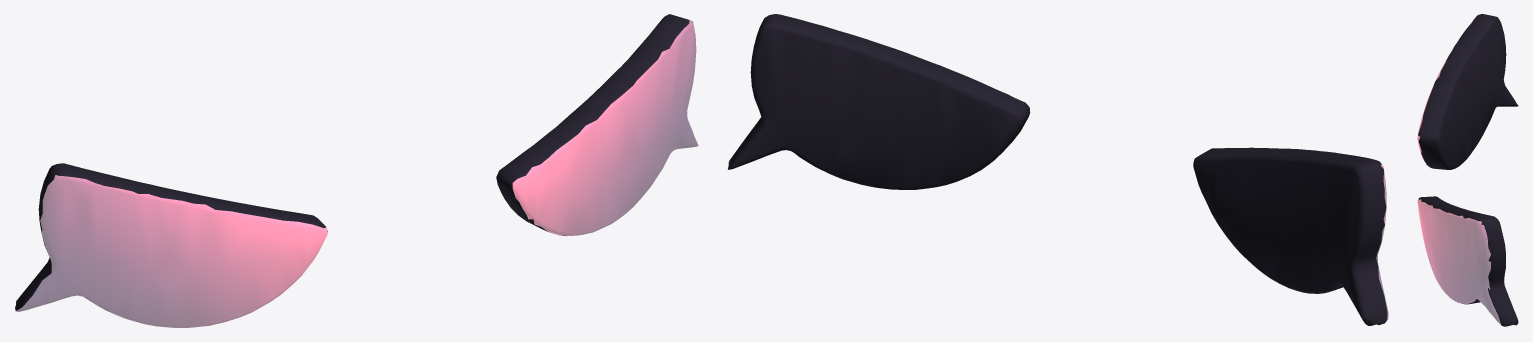
Rendered from eyes-fierce-red.glb.
The picture shows the model from 3 angles, left to right: view 1: azimuth 30°, elevation 25°; view 2: azimuth 150°, elevation 25°; view 3: azimuth 270°, elevation 25°; orthographic projection. The views are drawn at different scales.
Visible parts, largest first — view 1: eyes-fierce-red; view 2: eyes-fierce-red; view 3: eyes-fierce-red.
Part boxes in pixels (box(x1,y1,x2,y2)): eyes-fierce-red: box(15, 14, 698, 327); eyes-fierce-red: box(727, 14, 1388, 325); eyes-fierce-red: box(1417, 14, 1518, 326).
Size of the model in its own units: 0.5073 by 0.1167 by 0.0969.
